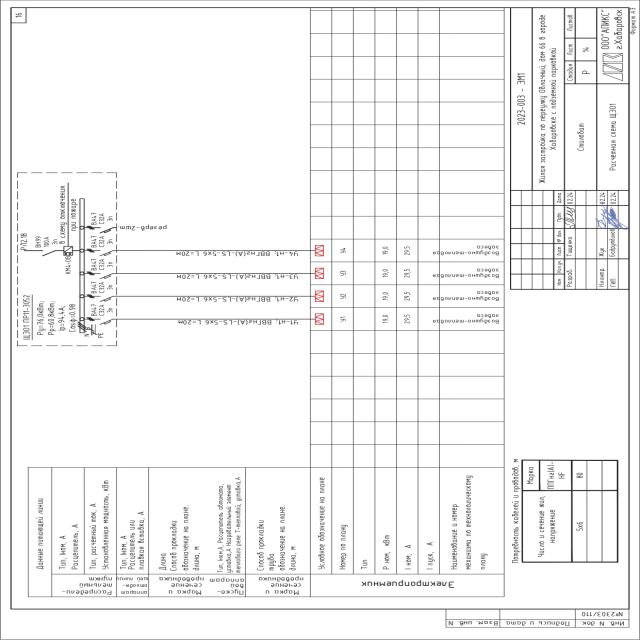-: (21, 293, 33, 341), (90, 235, 115, 249), (90, 280, 115, 294), (90, 258, 115, 272), (90, 212, 114, 226), (90, 304, 114, 318), (34, 234, 58, 248), (64, 256, 72, 276)
KM: (62, 245, 74, 256)
QF: (96, 318, 115, 326), (94, 272, 112, 280), (96, 249, 114, 257), (96, 294, 114, 302), (95, 227, 114, 234)
QS: (39, 249, 57, 257)
